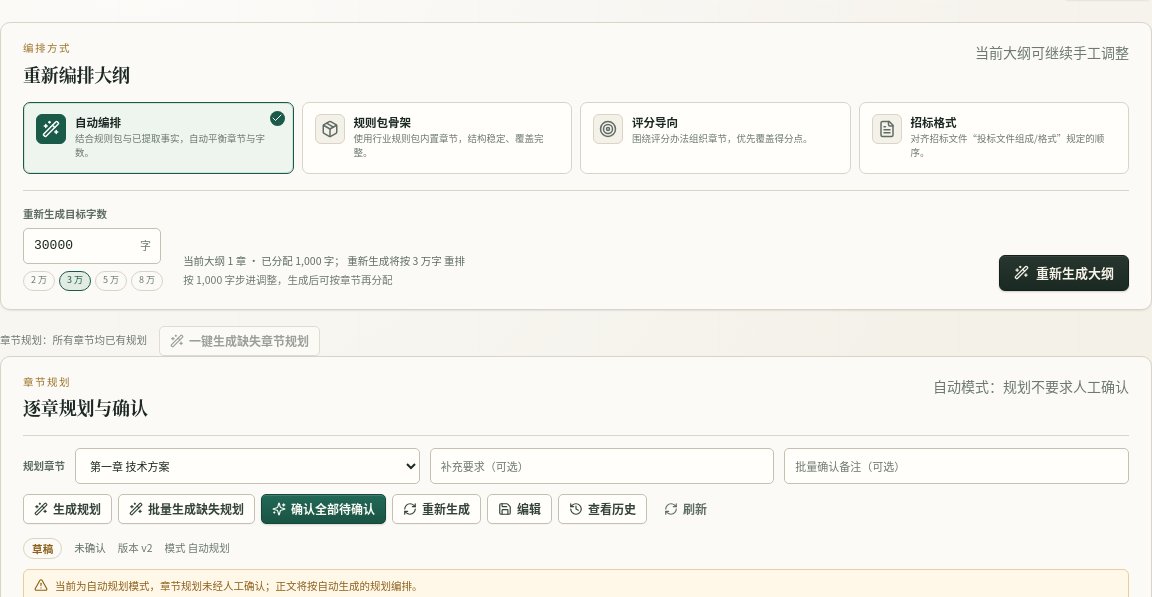
OutlineTab chapter planning panel › loads and displays plan history
Check: the heading "逐章规划与确认" is shown, box [23, 393, 148, 422]
Click the button "查看历史" at {"x": 603, "y": 509}, box [558, 494, 647, 524]
(page scrolled)
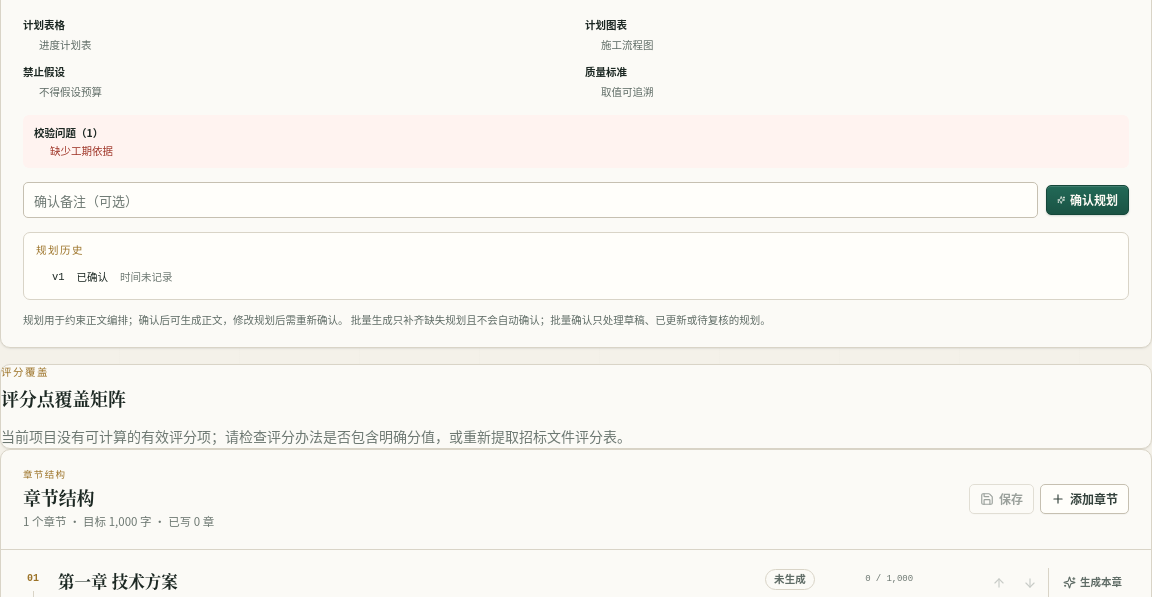
Check: the text "v1" is shown, box [52, 269, 64, 286]
